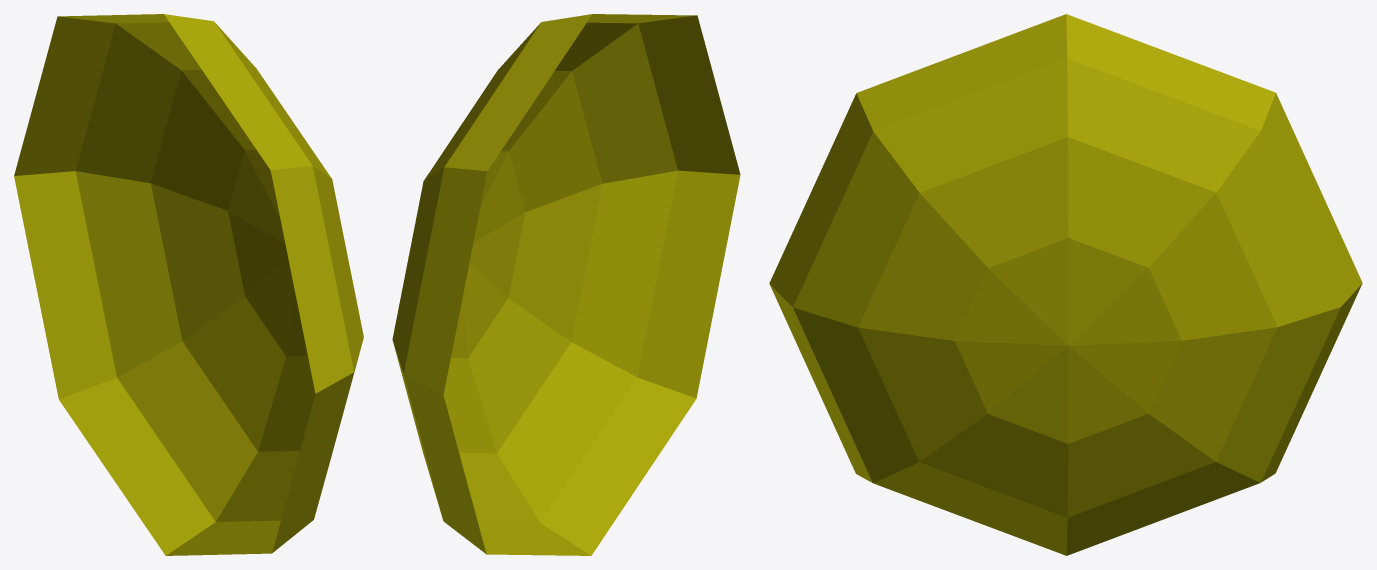
File: SM_StrengthTesterBell.fbx
The picture shows the model from 3 angles, left to right: view 1: azimuth 30°, elevation 25°; view 2: azimuth 150°, elevation 25°; view 3: azimuth 270°, elevation 25°; orthographic projection.
Parts seen in each view (by area): view 1: strengthTesterBell; view 2: strengthTesterBell; view 3: strengthTesterBell.
Boxes of the visible parts, bbox=[...] form: strengthTesterBell: bbox=[14, 14, 363, 555]; strengthTesterBell: bbox=[392, 14, 740, 555]; strengthTesterBell: bbox=[769, 14, 1362, 555].
Bounding box in the file's own units: 0.1188 × 0.4601 × 0.4601.
